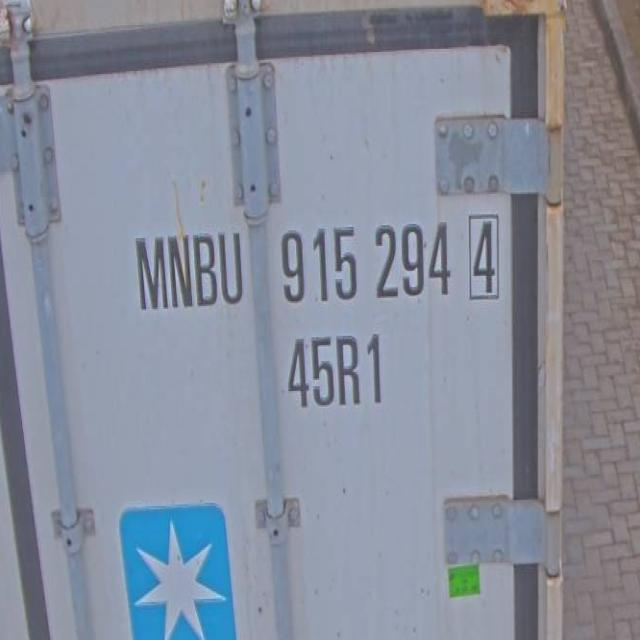dv: (459, 208, 503, 306)
owner: (121, 211, 250, 334)
serial: (272, 200, 452, 316)
size: (275, 326, 390, 412)
